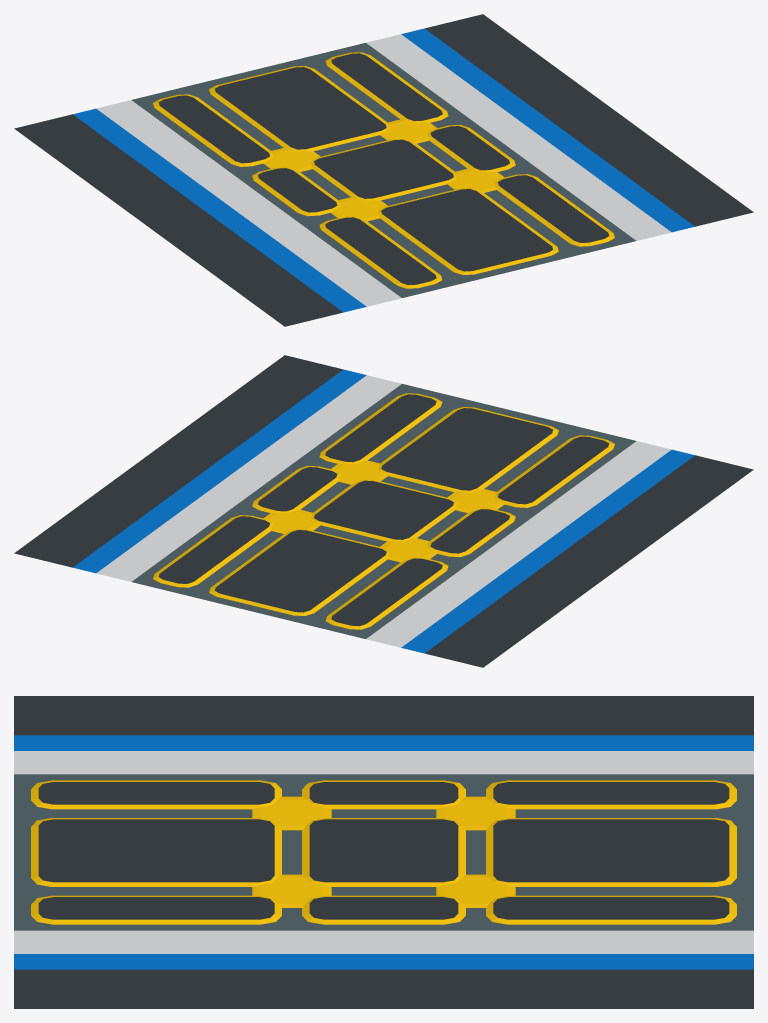
Rendered from Floor_type_C_019_002.glb.
3 renders of one model, top to bottom at view 1: azimuth 30°, elevation 25°; view 2: azimuth 150°, elevation 25°; view 3: azimuth 270°, elevation 25°, orthographic. The views are drawn at different scales.
Parts seen in each view (by area): view 1: Floor_type_C_019.002; view 2: Floor_type_C_019.002; view 3: Floor_type_C_019.002.
Boxes of the visible parts, x1,y1,x2,y2 form: Floor_type_C_019.002: (14, 14, 753, 326); Floor_type_C_019.002: (14, 355, 753, 667); Floor_type_C_019.002: (14, 696, 753, 1008).
Bounding box in the file's own units: 4 × 0.0134 × 4.
2 materials, 2 textured.
